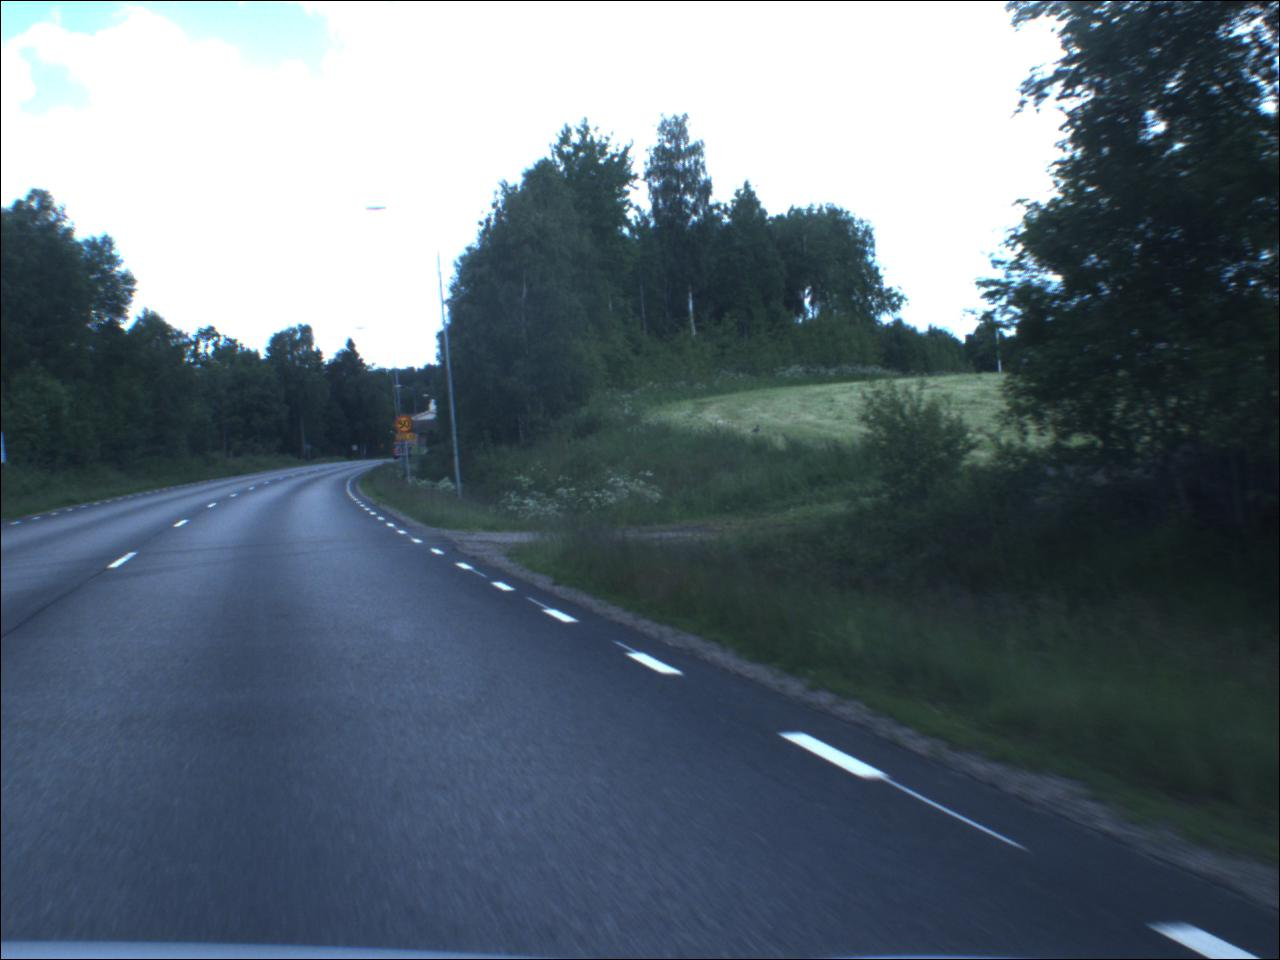50_SIGN: (397, 417, 417, 437)
